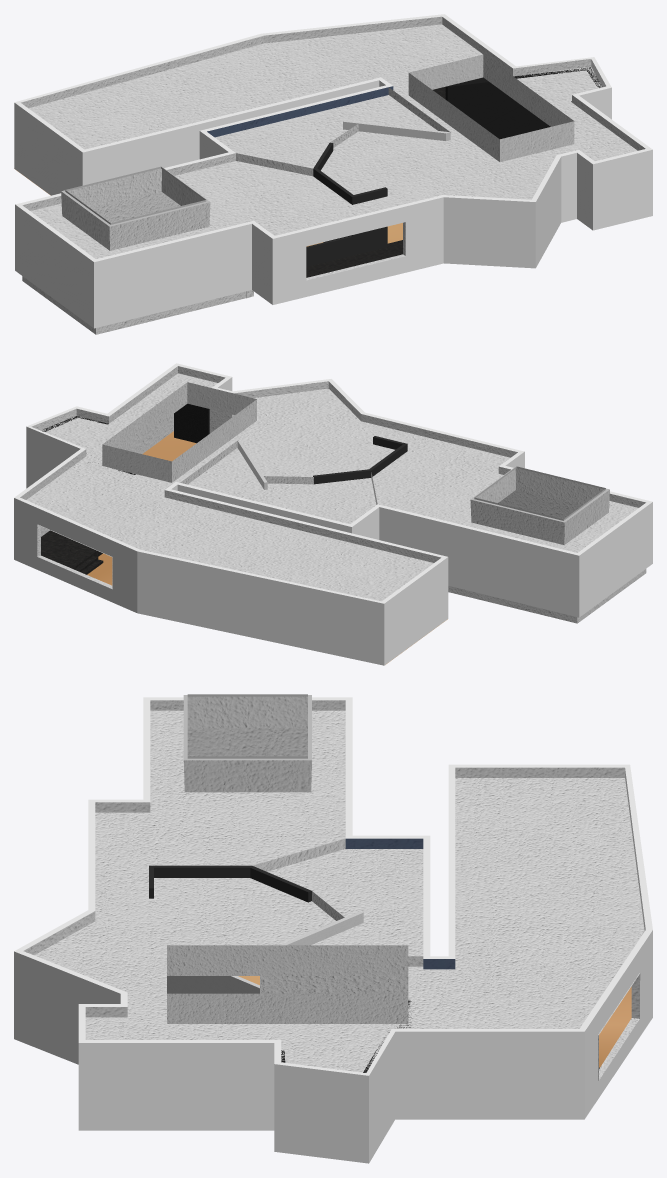
File: LayoutMuseoVar2.fbx
3 renders of one model, top to bottom at view 1: azimuth 30°, elevation 25°; view 2: azimuth 150°, elevation 25°; view 3: azimuth 270°, elevation 25°, orthographic. The views are drawn at different scales.
Visible parts, largest first — view 1: TettoV1, MuriEsterni, MuriInterniIngresso, Panel2, MuriInterniAlaOvest, MuriInterniAlaNord, MuriRoom2, MuriInterniCorridoio, TettoBasso, PedanaCorridoio, MuriRoom, CorniceTetto (+1 smaller); view 2: TettoV1, MuriEsterni, MuriInterniIngresso, MuriInterniAlaNord, MuriInterniAlaOvest, MuriInterniAlaEst, Palco1, Pavimento, MuriRoom2, WallPanel4, TettoBasso, CorniceTetto; view 3: TettoV1, MuriEsterni, MuriInterniIngresso, TettoBasso, MuriInterniAlaOvest, MuriRoom, MuriRoom2, CorniceTetto, Pavimento, MuriInterniCorridoio, MuriInterniAlaEst.
Part boxes in pixels (x1,y1,x2,y2): TettoV1: [29, 24, 637, 258]; MuriEsterni: [14, 14, 652, 328]; MuriInterniIngresso: [22, 153, 253, 334]; Panel2: [445, 67, 602, 138]; MuriInterniAlaOvest: [21, 16, 442, 108]; MuriInterniAlaNord: [442, 17, 645, 150]; MuriRoom2: [313, 142, 387, 255]; MuriInterniCorridoio: [207, 86, 393, 137]; TettoBasso: [236, 87, 450, 176]; PedanaCorridoio: [306, 240, 402, 277]; MuriRoom: [343, 120, 450, 140]; CorniceTetto: [61, 166, 209, 226]; TettoV1: [26, 373, 638, 601]; MuriEsterni: [14, 363, 652, 665]; MuriInterniIngresso: [448, 466, 646, 623]; MuriInterniAlaNord: [20, 366, 225, 536]; MuriInterniAlaOvest: [37, 490, 440, 589]; MuriInterniAlaEst: [211, 381, 517, 457]; Palco1: [41, 530, 103, 574]; Pavimento: [87, 431, 447, 663]; MuriRoom2: [313, 436, 407, 484]; WallPanel4: [174, 403, 209, 443]; TettoBasso: [180, 440, 377, 504]; CorniceTetto: [471, 466, 609, 522]; TettoV1: [34, 696, 644, 1072]; MuriEsterni: [14, 697, 652, 1163]; MuriInterniIngresso: [95, 700, 345, 812]; TettoBasso: [253, 838, 423, 993]; MuriInterniAlaOvest: [455, 767, 645, 1080]; MuriRoom: [167, 911, 363, 993]; MuriRoom2: [149, 865, 311, 902]; CorniceTetto: [183, 694, 311, 760]; Pavimento: [238, 976, 631, 1067]; MuriInterniCorridoio: [345, 838, 455, 969]; MuriInterniAlaEst: [23, 911, 127, 1017].
Bounding box in the file's own units: 7859 × 1209 × 5609.
